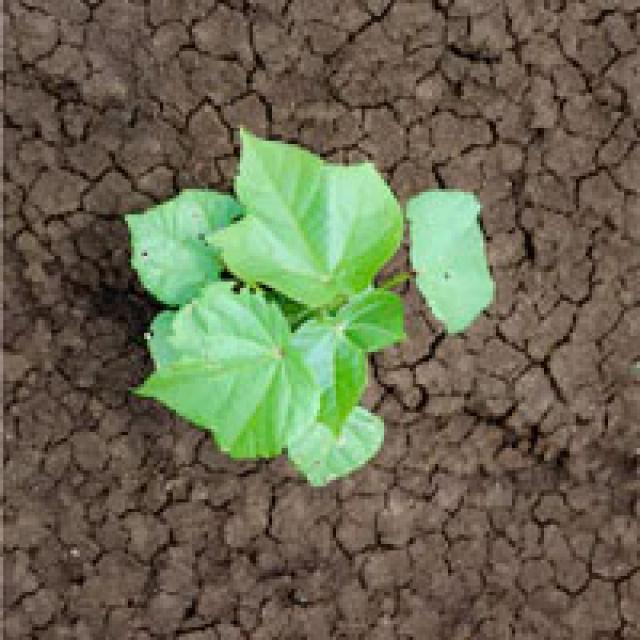Healthy Leaf: (126, 167, 468, 503)
